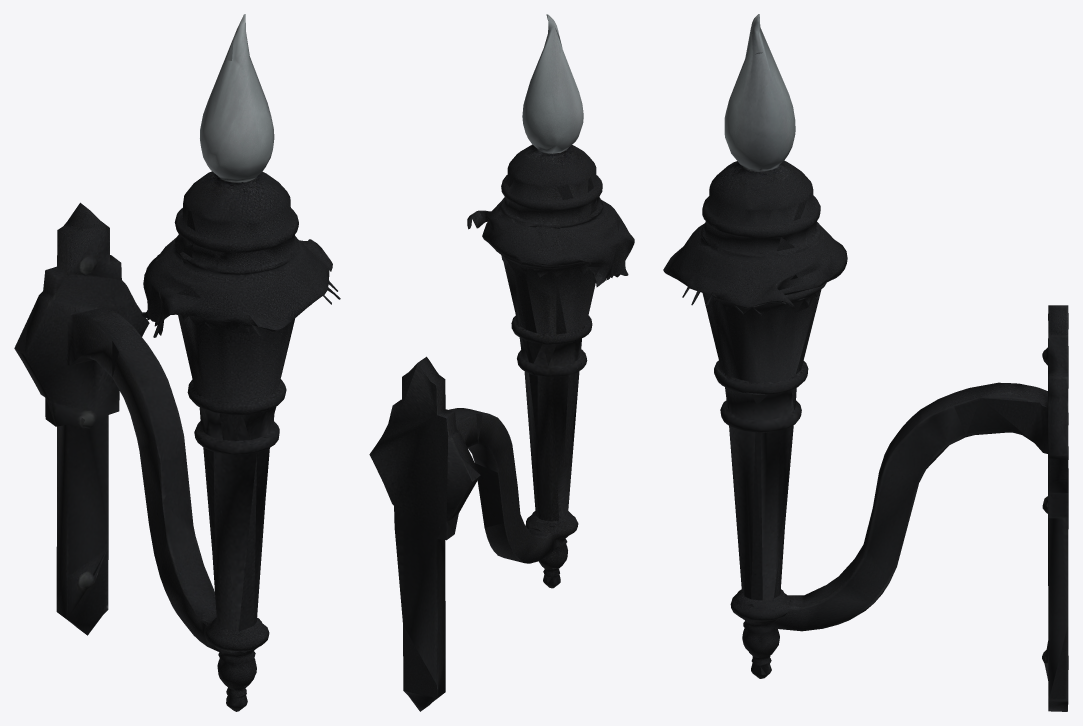
File: Torche.fbx
The picture shows the model from 3 angles, left to right: view 1: azimuth 30°, elevation 25°; view 2: azimuth 150°, elevation 25°; view 3: azimuth 270°, elevation 25°; orthographic projection. The views are drawn at different scales.
Visible parts, largest first — view 1: output_unwrapped; view 2: output_unwrapped; view 3: output_unwrapped.
Part boxes in pixels (x1=…): output_unwrapped: x1=14, y1=14, x2=340, y2=711; output_unwrapped: x1=369, y1=14, x2=634, y2=711; output_unwrapped: x1=663, y1=14, x2=1068, y2=711.
Bounding box in the file's own units: 48.64 × 190 × 99.64.
1 material, 1 textured.
